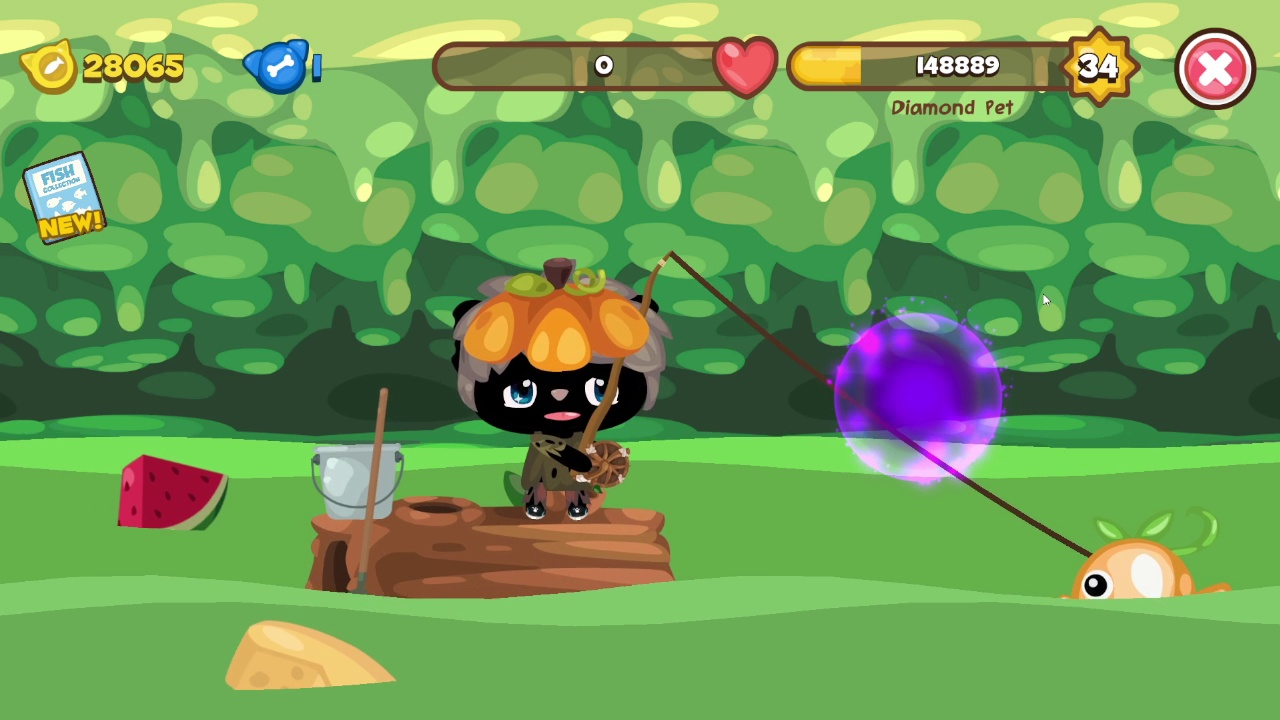point: (832, 313, 1006, 482)
